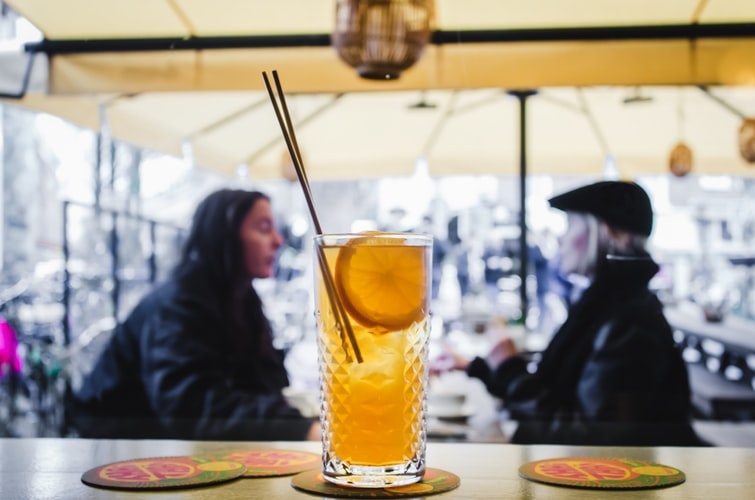whiskey: (312, 238, 437, 478)
